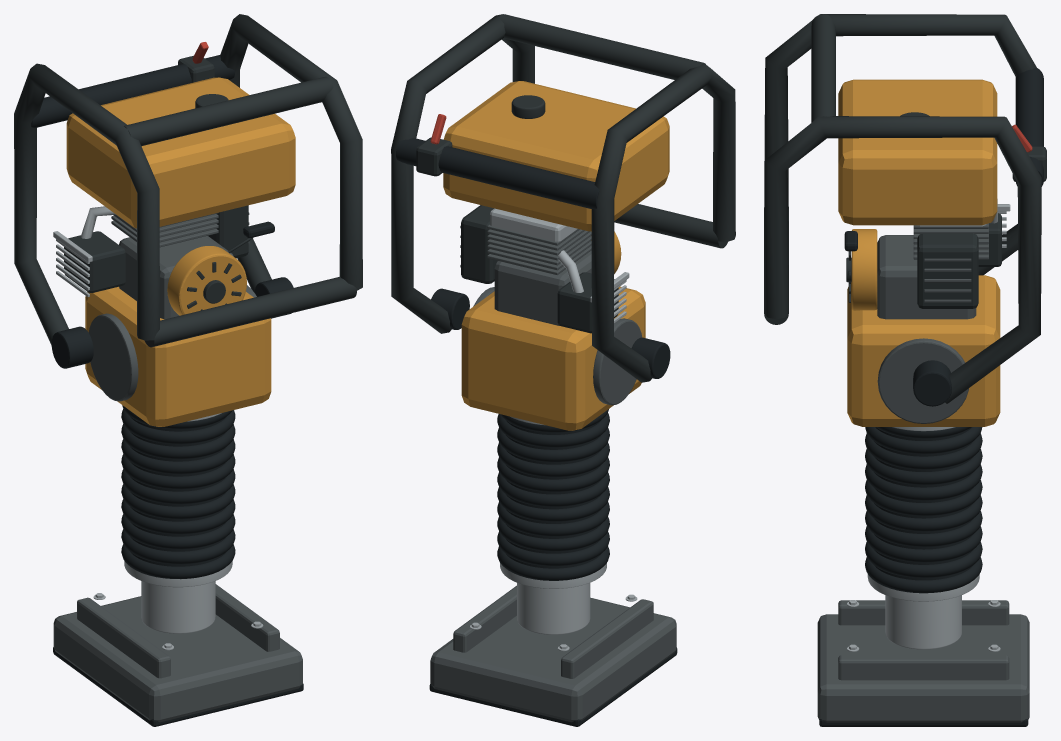
File: city-tamping-rammer.glb
3 views of the same model, side by side, from view 1: azimuth 30°, elevation 25°; view 2: azimuth 150°, elevation 25°; view 3: azimuth 270°, elevation 25° (orthographic). The views are drawn at different scales.
Visible parts, largest first — view 1: Assembly | Graphite machine powder coat, Assembly | Industrial ochre enamel, Assembly | Rough cast iron, Assembly | Non-marking rubber, Assembly | Zinc plated steel; view 2: Assembly | Graphite machine powder coat, Assembly | Industrial ochre enamel, Assembly | Rough cast iron, Assembly | Non-marking rubber, Assembly | Zinc plated steel; view 3: Assembly | Graphite machine powder coat, Assembly | Industrial ochre enamel, Assembly | Rough cast iron, Assembly | Non-marking rubber, Assembly | Zinc plated steel.
Boxes of the visible parts, box(x1,y1,x2,y2) form: Assembly | Graphite machine powder coat: box(14, 14, 362, 347); Assembly | Industrial ochre enamel: box(66, 77, 295, 426); Assembly | Rough cast iron: box(53, 212, 302, 722); Assembly | Non-marking rubber: box(31, 55, 303, 726); Assembly | Zinc plated steel: box(53, 206, 263, 650); Assembly | Graphite machine powder coat: box(391, 14, 735, 382); Assembly | Industrial ochre enamel: box(443, 81, 669, 430); Assembly | Rough cast iron: box(430, 224, 676, 722); Assembly | Non-marking rubber: box(396, 138, 677, 726); Assembly | Zinc plated steel: box(469, 208, 637, 651); Assembly | Graphite machine powder coat: box(764, 14, 1046, 403); Assembly | Industrial ochre enamel: box(838, 79, 1000, 426); Assembly | Rough cast iron: box(817, 223, 1029, 722); Assembly | Non-marking rubber: box(819, 67, 1043, 726); Assembly | Zinc plated steel: box(847, 199, 1010, 651).
Bounding box in the file's own units: 0.46 × 1.17 × 0.48.
